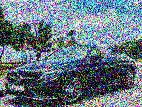car: (3, 34, 139, 104)
